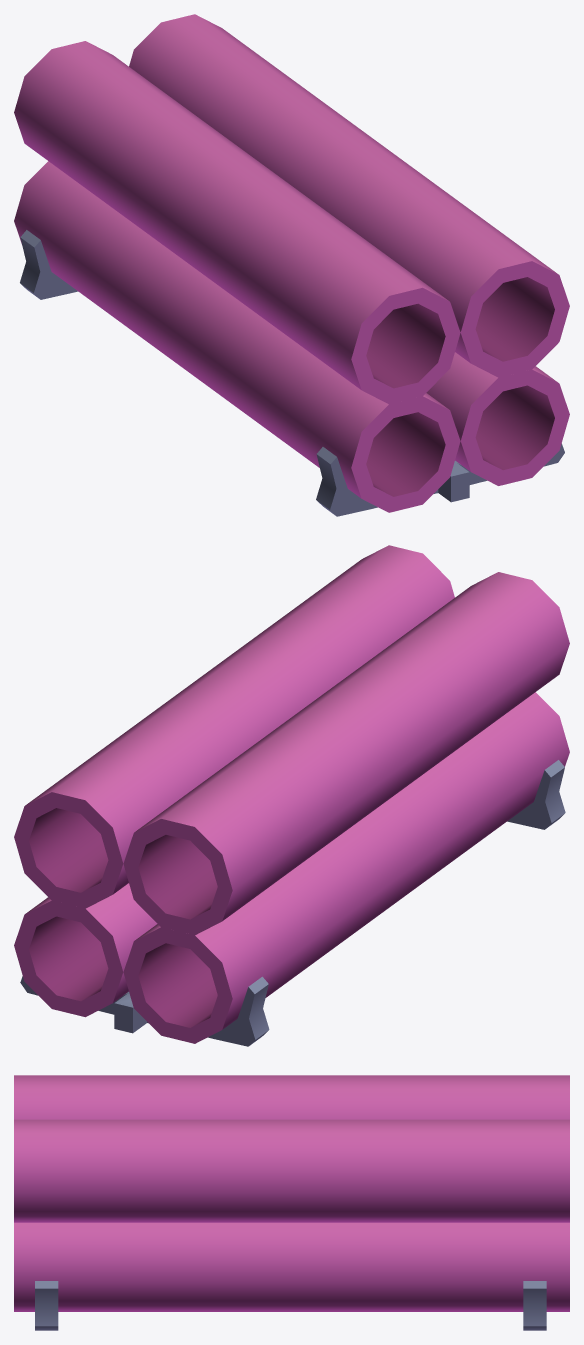
The model's file is obstacle-pipe_platform_H1.glb.
3 renders of one model, top to bottom at view 1: azimuth 30°, elevation 25°; view 2: azimuth 150°, elevation 25°; view 3: azimuth 270°, elevation 25°, orthographic. The views are drawn at different scales.
Visible parts, largest first — view 1: obstacle-pipe_platform_H1; view 2: obstacle-pipe_platform_H1; view 3: obstacle-pipe_platform_H1.
Boxes of the visible parts, left/top/right/bottom form: obstacle-pipe_platform_H1: left=14, top=14, right=569, bottom=516; obstacle-pipe_platform_H1: left=14, top=545, right=569, bottom=1046; obstacle-pipe_platform_H1: left=14, top=1075, right=569, bottom=1330.
Size of the model in its own units: 2.42 by 2.18 by 6.
